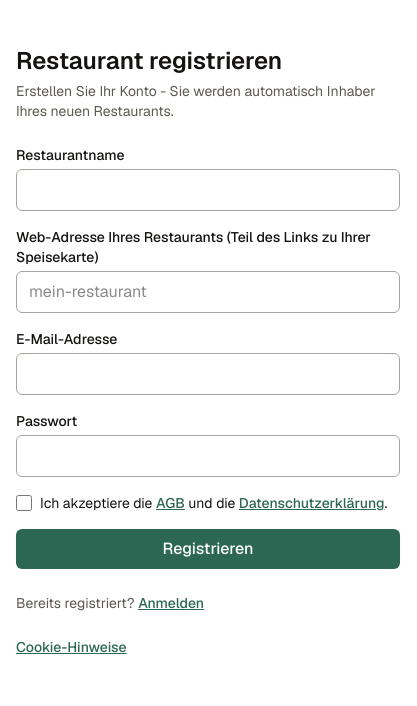
Test: RegisterPage keeps entered values after a validation error › keeps restaurant name, slug, e-mail and the ticked consent
Type "Zur Post" into the field labelled "Restaurantname".
click(208, 190); type("Zur Post")  # box [16,169,400,211]
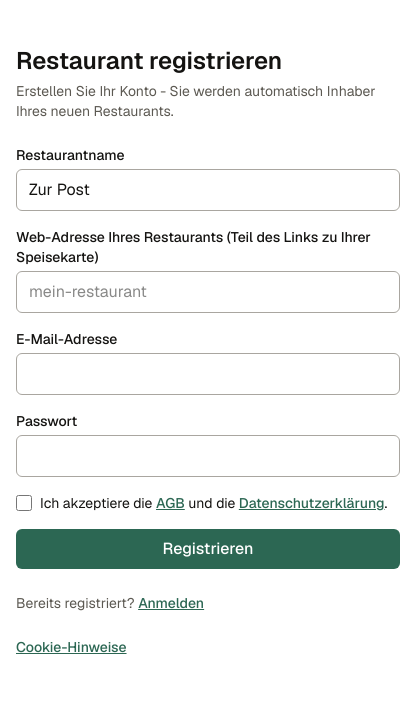
Type "zur-post" into the field labelled "Web-Adresse".
click(208, 292); type("zur-post")  # box [16,271,400,313]
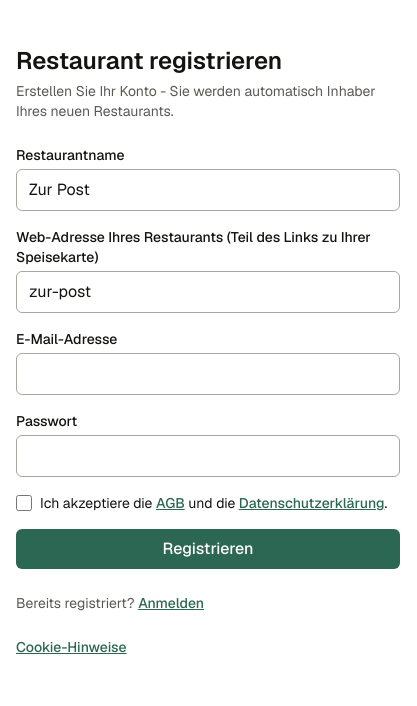
Type "wirt@example.com" into the field labelled "E-Mail-Adresse".
click(208, 374); type("wirt@example.com")  # box [16,353,400,395]
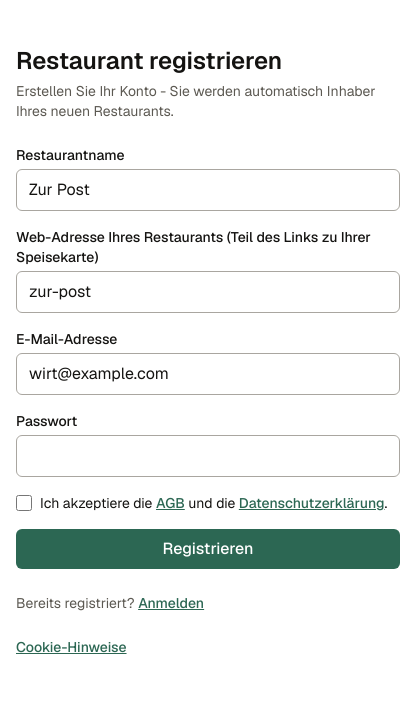
Type "short" into the password field labelled "Passwort".
click(208, 456); type("short")  # box [16,435,400,477]
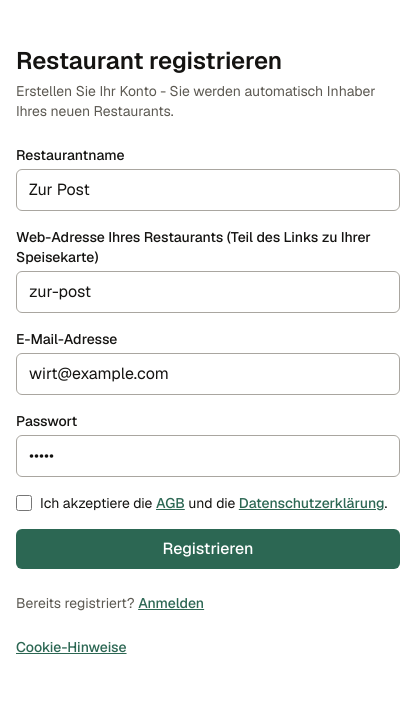
Click the checkbox.
click(24, 503)  # box [16,495,32,511]
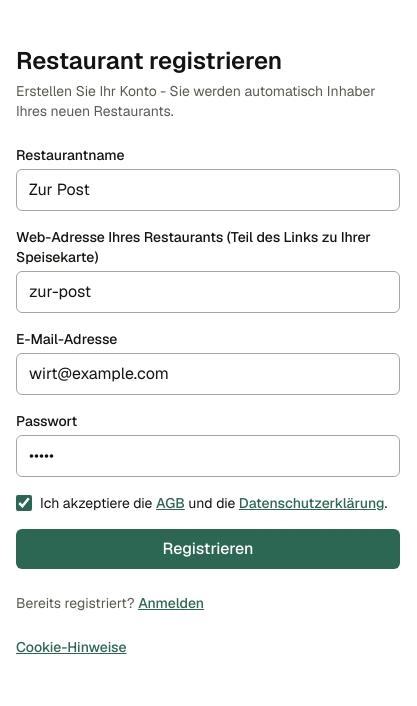
Click the button "Registrieren".
click(208, 549)  # box [16,529,400,569]
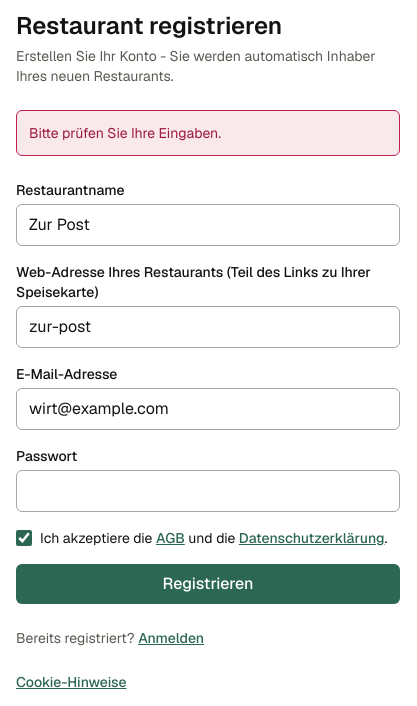
Now the checkbox is checked, box [16,530,32,546]
Now the message shows "Eingaben", box [29,124,221,142]
